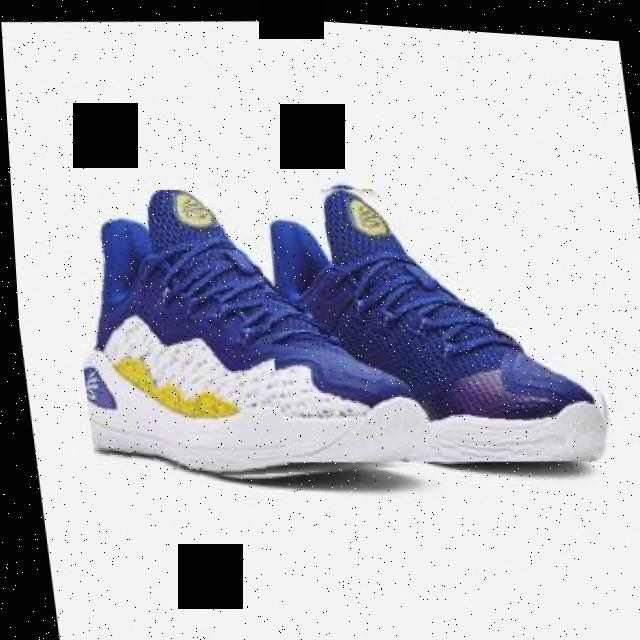shoe: (57, 165, 435, 499), (248, 157, 609, 475)
